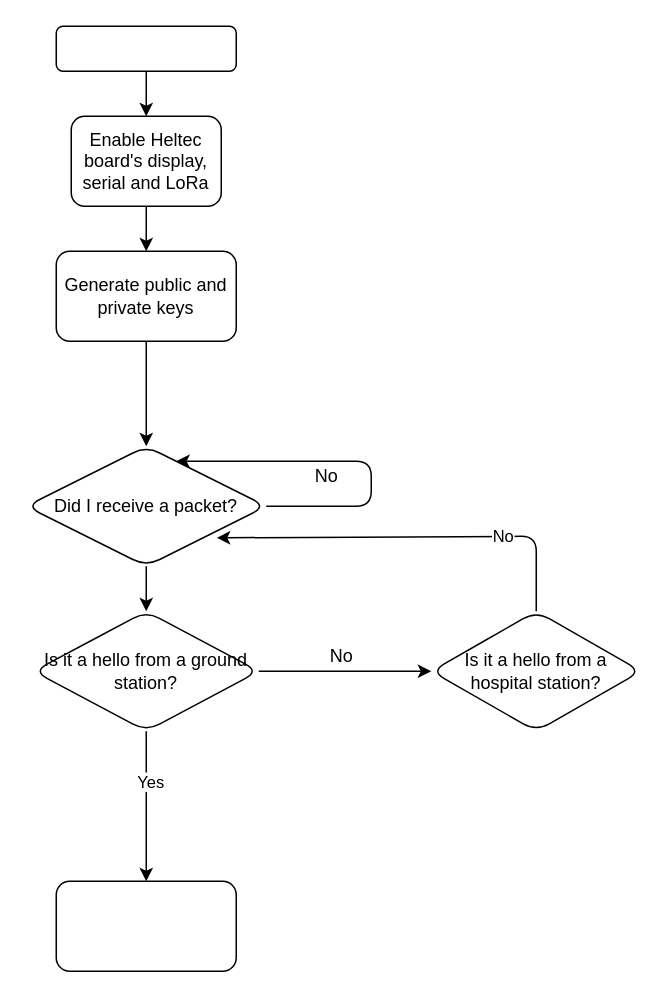
The diagram is 668 pixels wide and 998 high, and some of its shapes have lost their labels. The shapes that lost their labels are listed below. From the top down, each one's box as (x1, y1, x2, y2) in pixels, then its label:
(55, 25, 236, 71): Power ON
(55, 880, 236, 971): Check maxOrders and currentOrders
